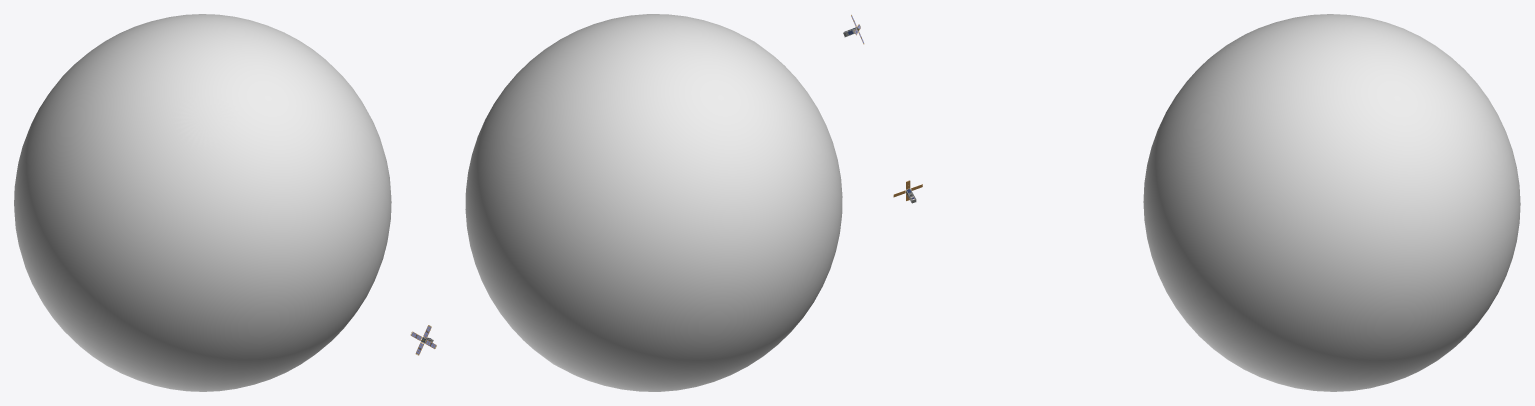
Rendered from cubesatprojectfinal.fbx.
3 renders of one model, left to right at view 1: azimuth 30°, elevation 25°; view 2: azimuth 150°, elevation 25°; view 3: azimuth 270°, elevation 25°, orthographic.
Visible parts, largest first — view 1: Earth Atmosphere; view 2: Earth Atmosphere, Earth Lights; view 3: Earth Atmosphere, Earth Lights.
Boxes of the visible parts, <box> form: Earth Atmosphere: <box>14,14,391,391</box>; Earth Atmosphere: <box>465,14,842,391</box>; Earth Lights: <box>469,167,599,275</box>; Earth Atmosphere: <box>1143,14,1520,391</box>; Earth Lights: <box>1420,141,1519,342</box>.
Size of the model in its own units: 16272 by 16326 by 27099.
29 materials, 7 textured.
